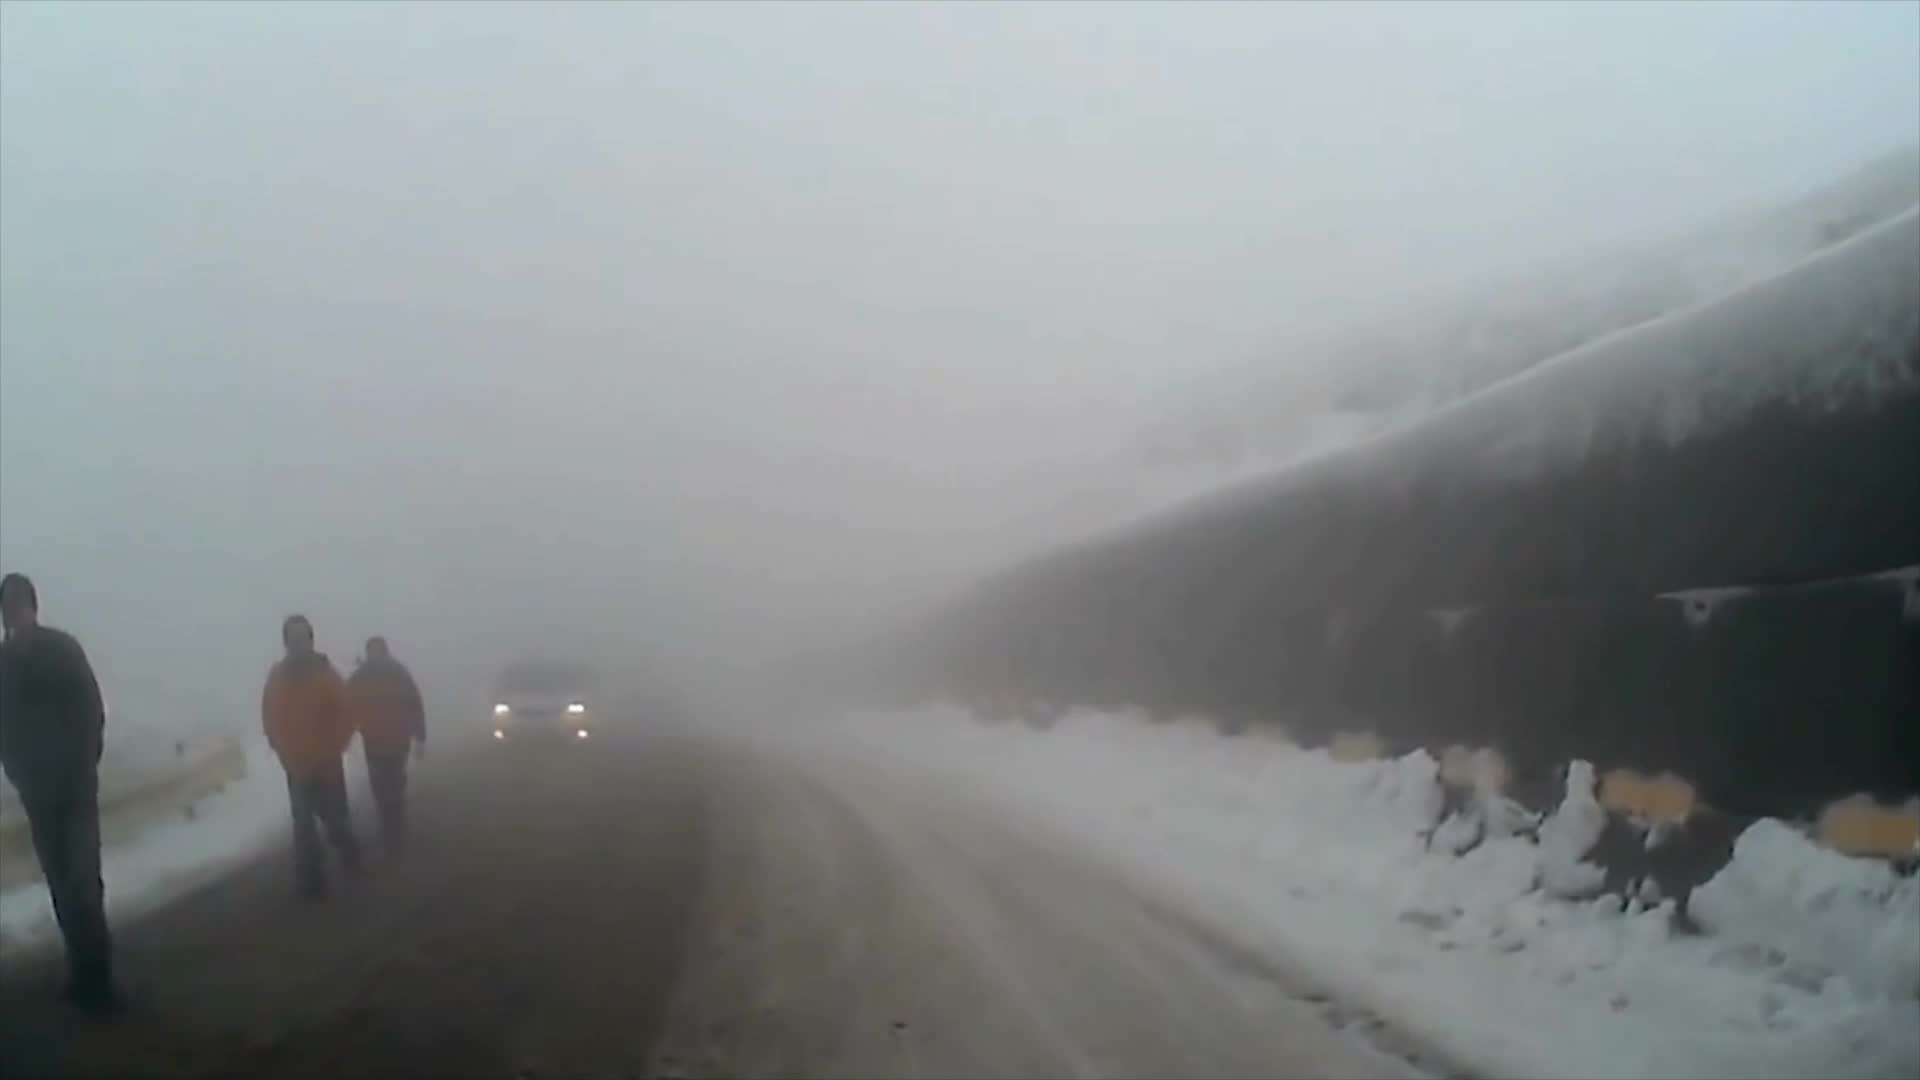pedestrian: (6, 577, 139, 1014), (262, 616, 365, 900), (352, 634, 431, 859)
vehicle: (489, 660, 595, 758)
